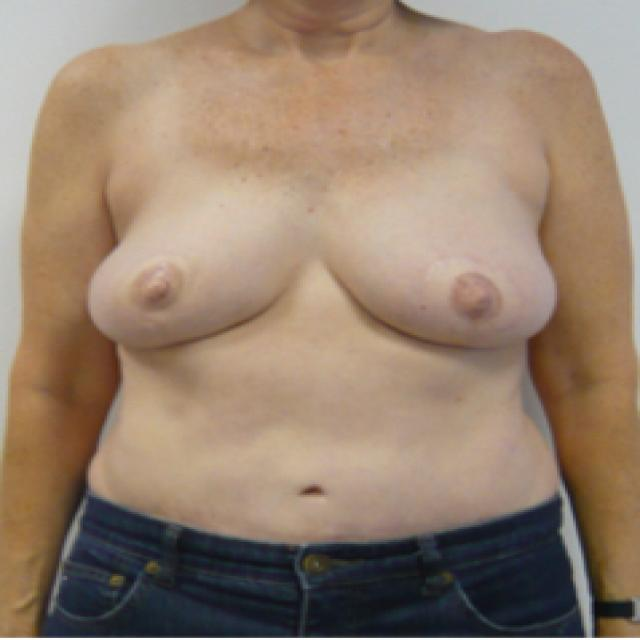Seno herido: (315, 141, 568, 363), (79, 141, 308, 363)
